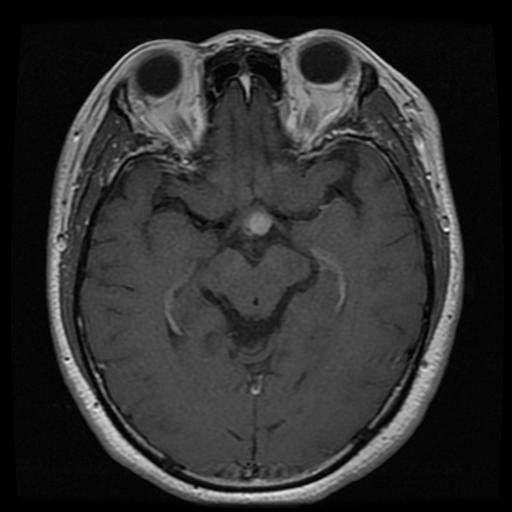Pituirity_tumour: (244, 207, 272, 236)
